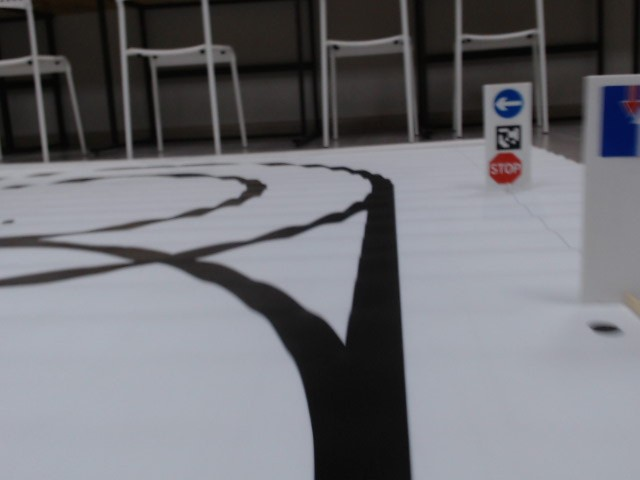Stop: (487, 153, 524, 184)
